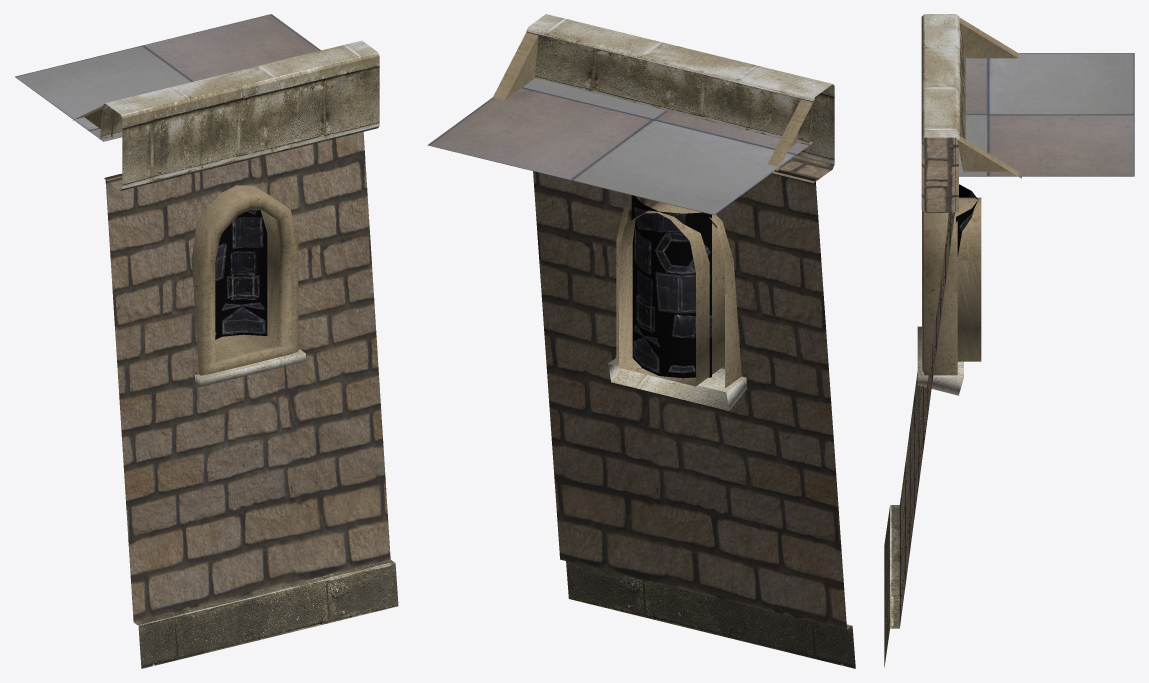
Rendered from castle-wall2-w-window-small.fbx.
3 views of the same model, side by side, from view 1: azimuth 30°, elevation 25°; view 2: azimuth 150°, elevation 25°; view 3: azimuth 270°, elevation 25° (orthographic). The views are drawn at different scales.
Visible parts, largest first — view 1: castle-wall2-w-window-small; view 2: castle-wall2-w-window-small; view 3: castle-wall2-w-window-small.
Part boxes in pixels (bbox=[...]): castle-wall2-w-window-small: bbox=[15, 14, 398, 668]; castle-wall2-w-window-small: bbox=[427, 14, 855, 668]; castle-wall2-w-window-small: bbox=[884, 14, 1134, 667].
Size of the model in its own units: 200 by 401 by 171.
